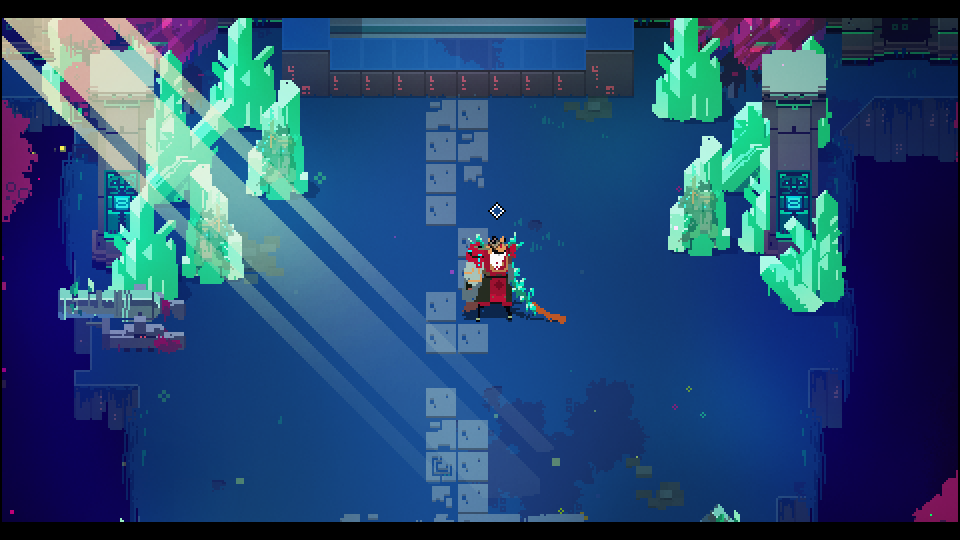hanged_man: (453, 226, 548, 323)
